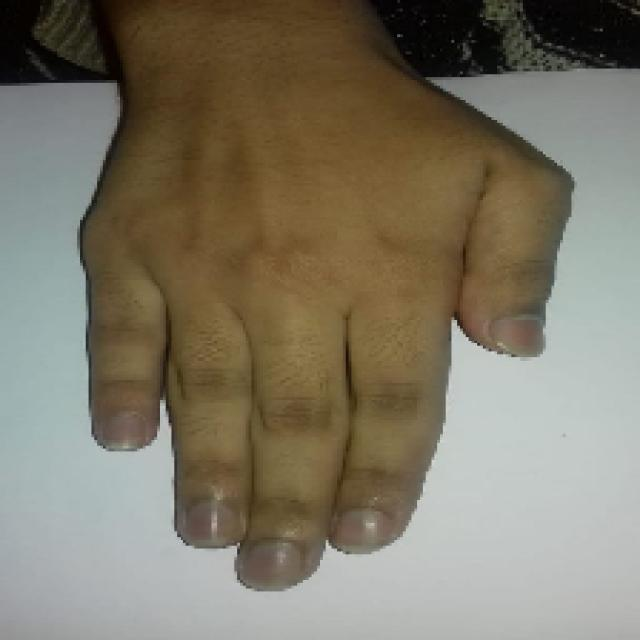Nail: (333, 508, 392, 553), (251, 540, 304, 590), (185, 500, 240, 548), (490, 314, 545, 357), (102, 411, 145, 452)
